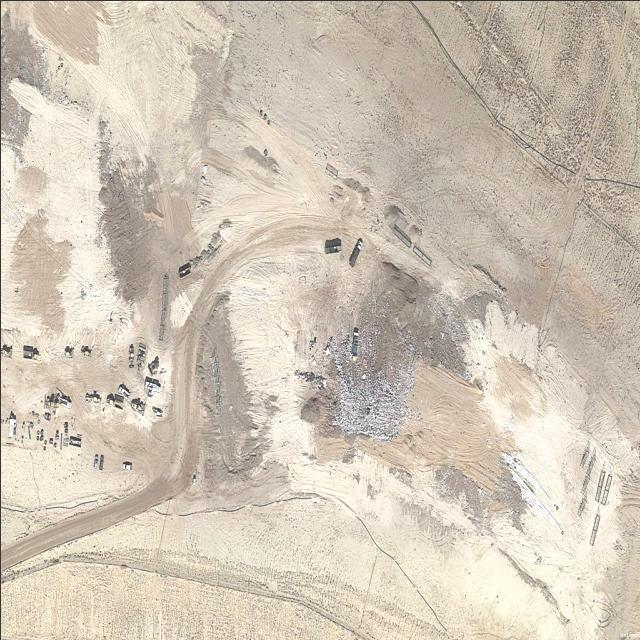dump_site: (288, 302, 417, 446), (134, 341, 147, 369), (127, 342, 133, 370)
